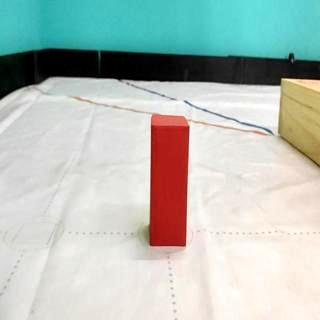redbox: (148, 112, 190, 248)
